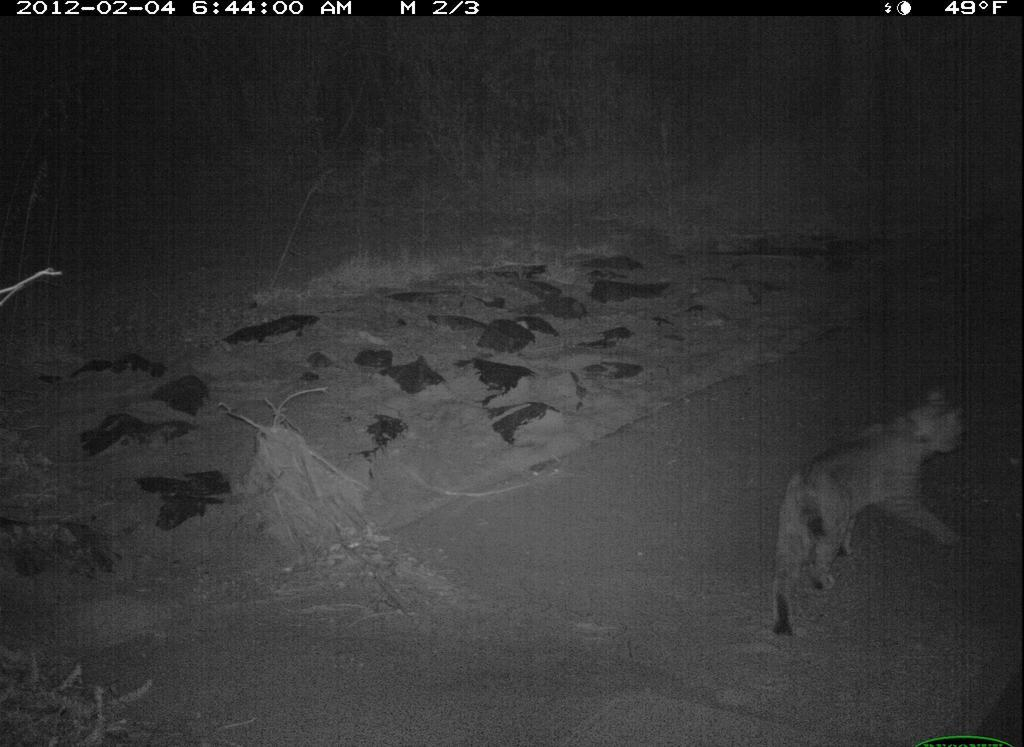bobcat: (770, 387, 982, 642)
